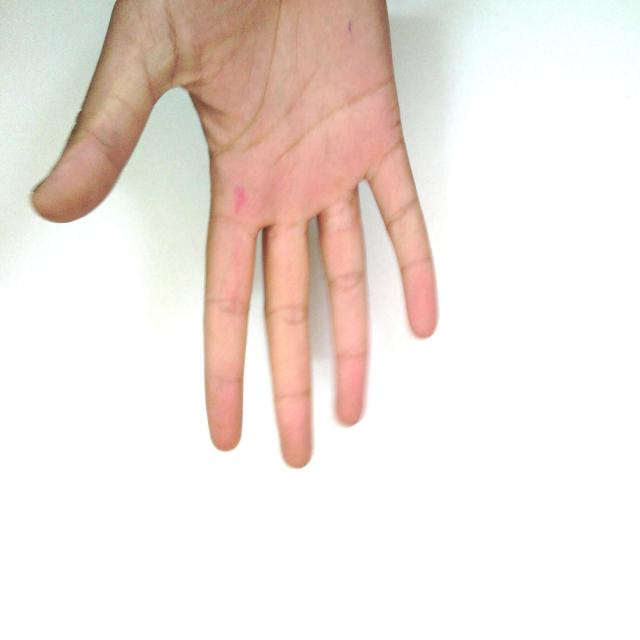others: (11, 4, 504, 467)
